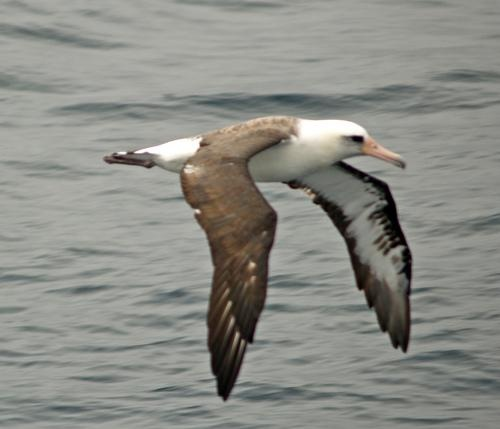bird: (102, 112, 412, 403)
